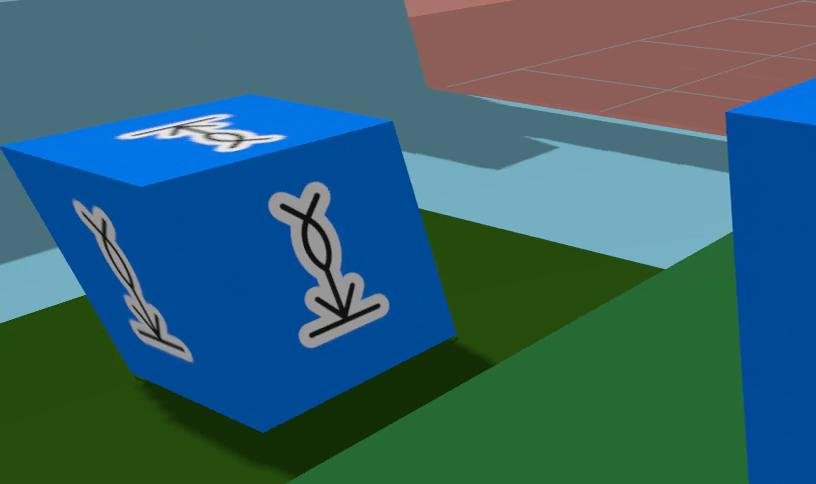KFS_REAL: (0, 95, 455, 431), (727, 79, 816, 484), (269, 182, 388, 348), (74, 200, 193, 361), (118, 114, 286, 152)
